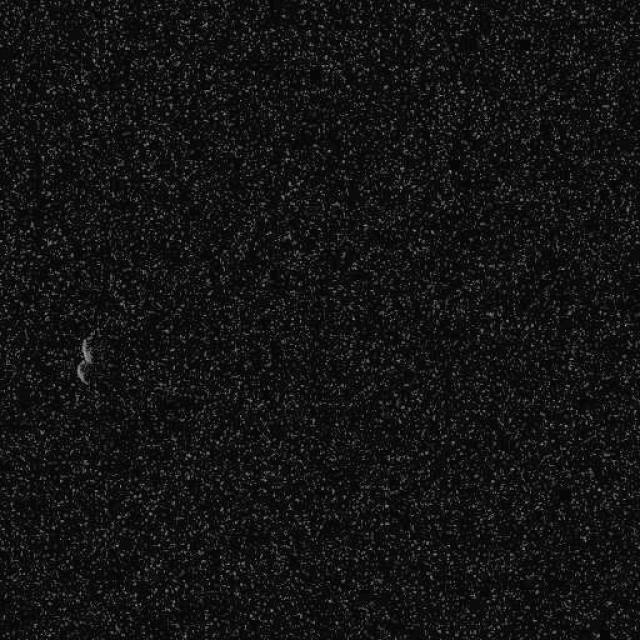D2: (75, 335, 95, 385)
